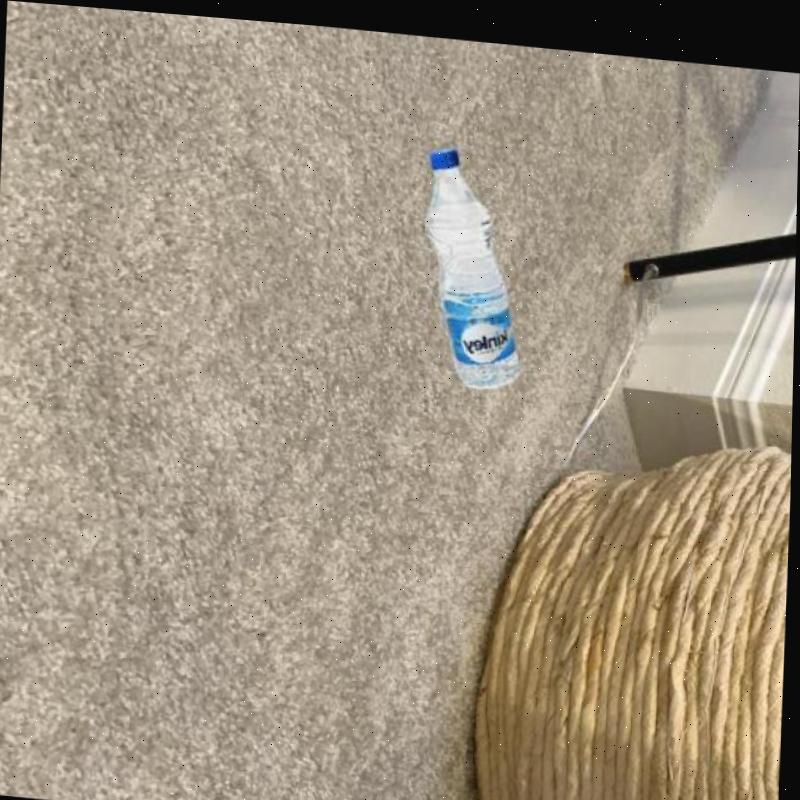botella: (416, 138, 530, 385)
